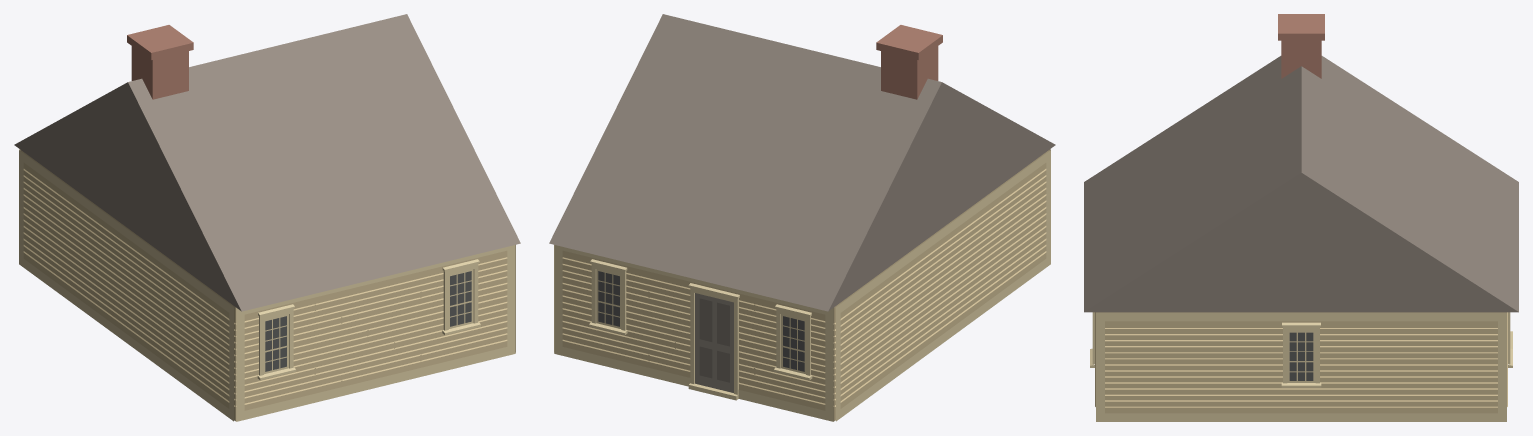
File: recon_1835_north_d4_083__inferred_1835.glb
3 renders of one model, left to right at view 1: azimuth 30°, elevation 25°; view 2: azimuth 150°, elevation 25°; view 3: azimuth 270°, elevation 25°, orthographic. The views are drawn at different scales.
Parts seen in each view (by area): view 1: recon_1835_north_d4_083__inferred_1835; view 2: recon_1835_north_d4_083__inferred_1835; view 3: recon_1835_north_d4_083__inferred_1835.
Boxes of the visible parts, <box> form: recon_1835_north_d4_083__inferred_1835: <box>14,14,520,421</box>; recon_1835_north_d4_083__inferred_1835: <box>549,14,1055,421</box>; recon_1835_north_d4_083__inferred_1835: <box>1084,14,1518,421</box>.
Size of the model in its own units: 6.6 by 6.53 by 9.11.
